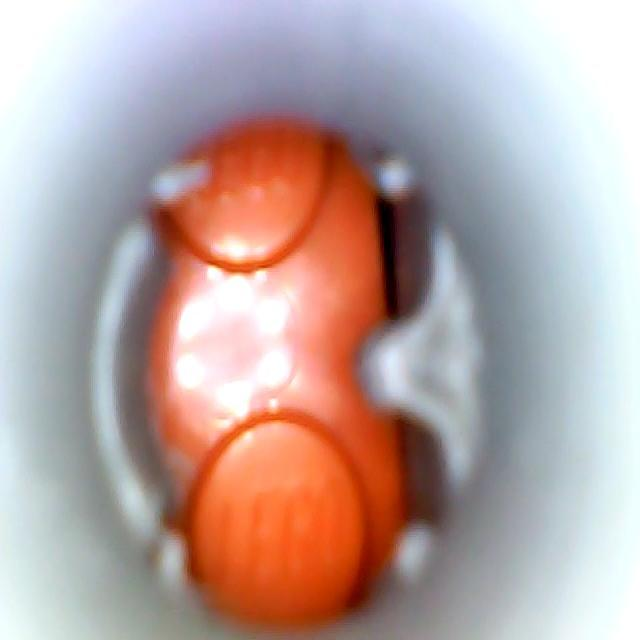studs: (186, 412, 367, 625), (168, 124, 329, 271)
